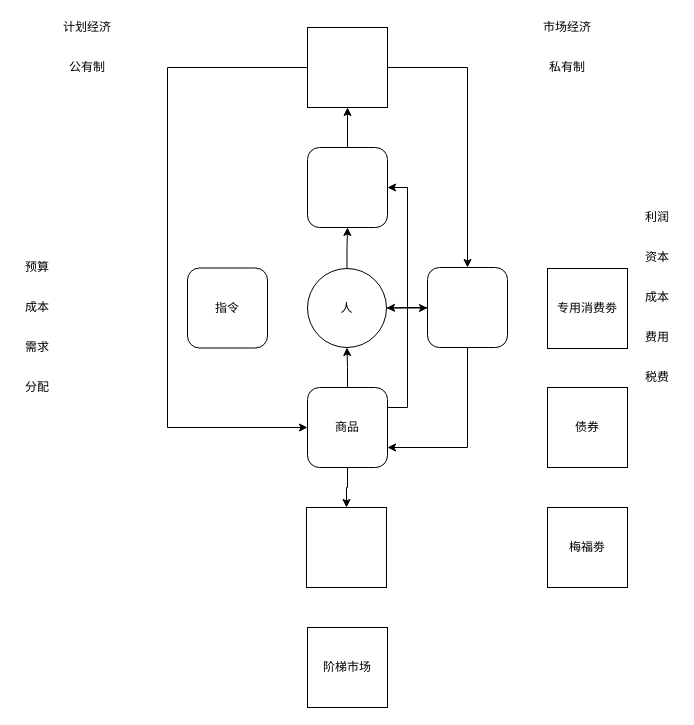
This 694x725 diagram has some shape labels left out. Here are the shapes that lost their labels. From the top down, the box of each, then its label:
(306, 26, 388, 108): 工厂
(306, 146, 388, 228): 生产资料
(426, 266, 508, 348): 货币
(306, 506, 386, 588): 市场
